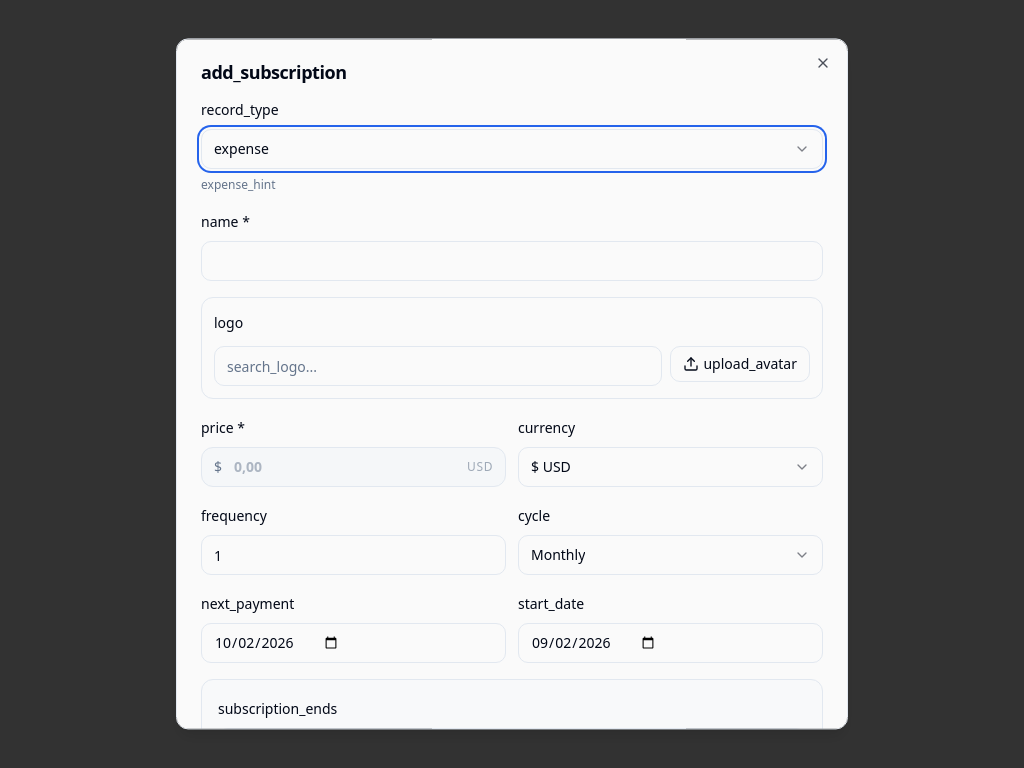
Test: SubscriptionFormModal › shows 'no_logos_found' when searching completes with no results
In the field with placeholder "search_logo...": (438, 366) [214,346,662,386], type "xyz"
Wait 400 ms
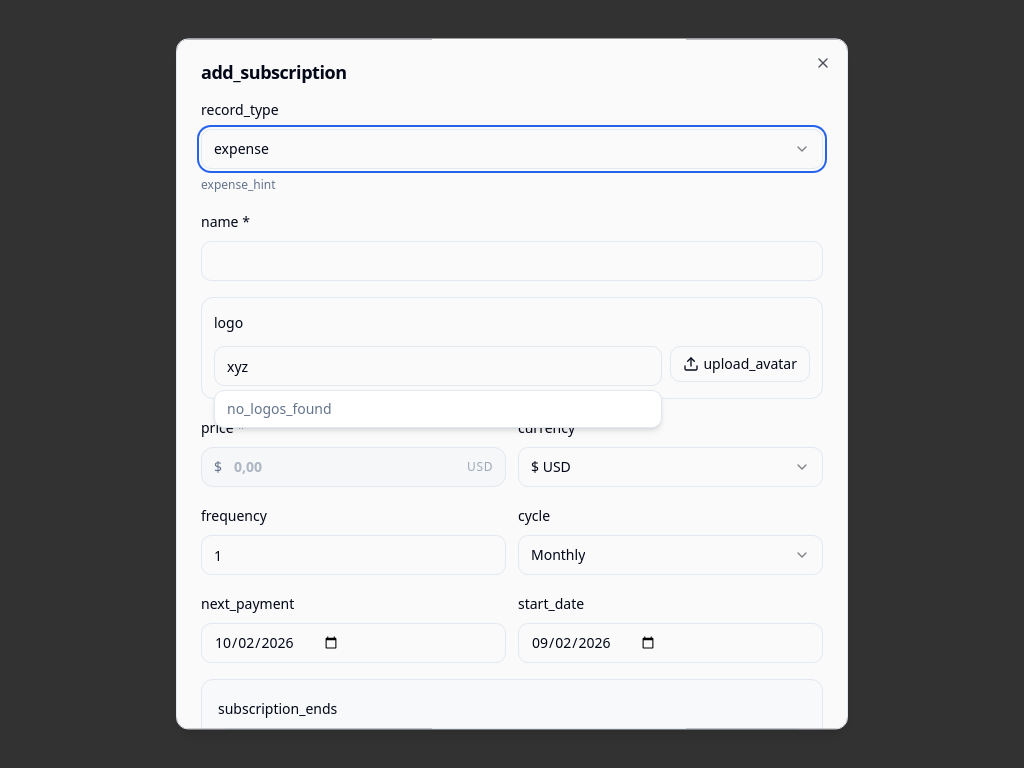
Result: the text "no_logos_found" is shown at [227,399,332,418]
